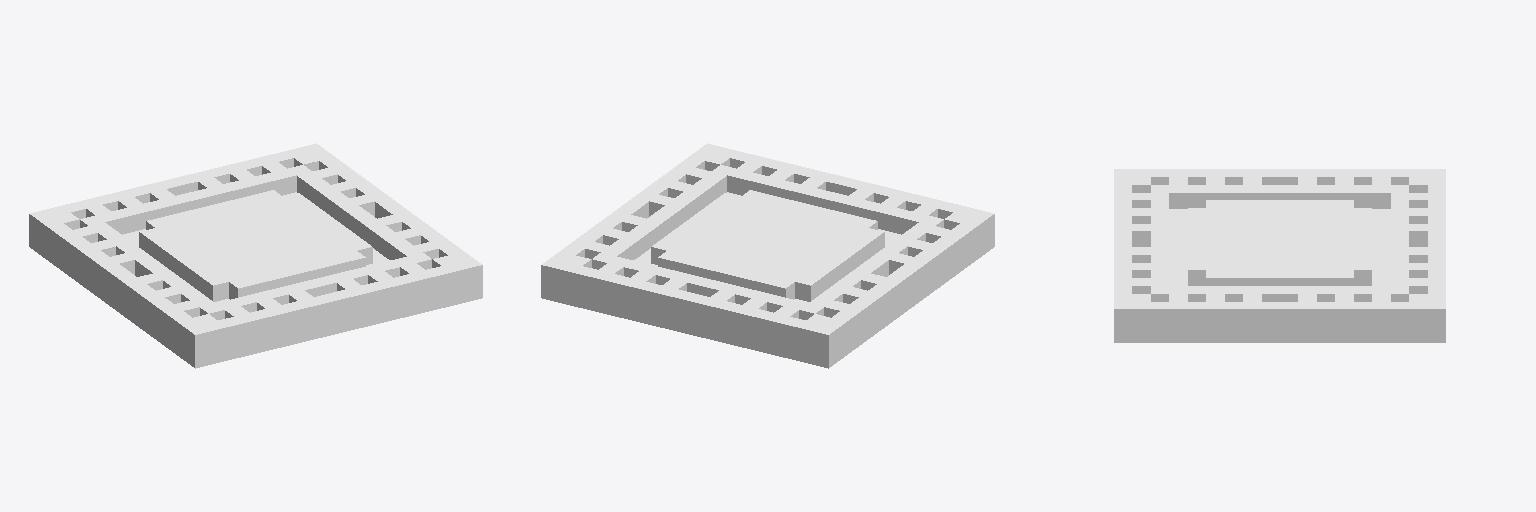
File: FloorTile6.obj
3 views of the same model, side by side, from view 1: azimuth 30°, elevation 25°; view 2: azimuth 150°, elevation 25°; view 3: azimuth 270°, elevation 25° (orthographic).
Parts seen in each view (by area): view 1: object 1; view 2: object 1; view 3: object 1.
Part boxes in pixels (x1,y1,x2,y2): object 1: (29, 143, 482, 368); object 1: (541, 143, 994, 368); object 1: (1114, 169, 1445, 342).
Size of the model in its own units: 1.8 by 0.2 by 1.8.